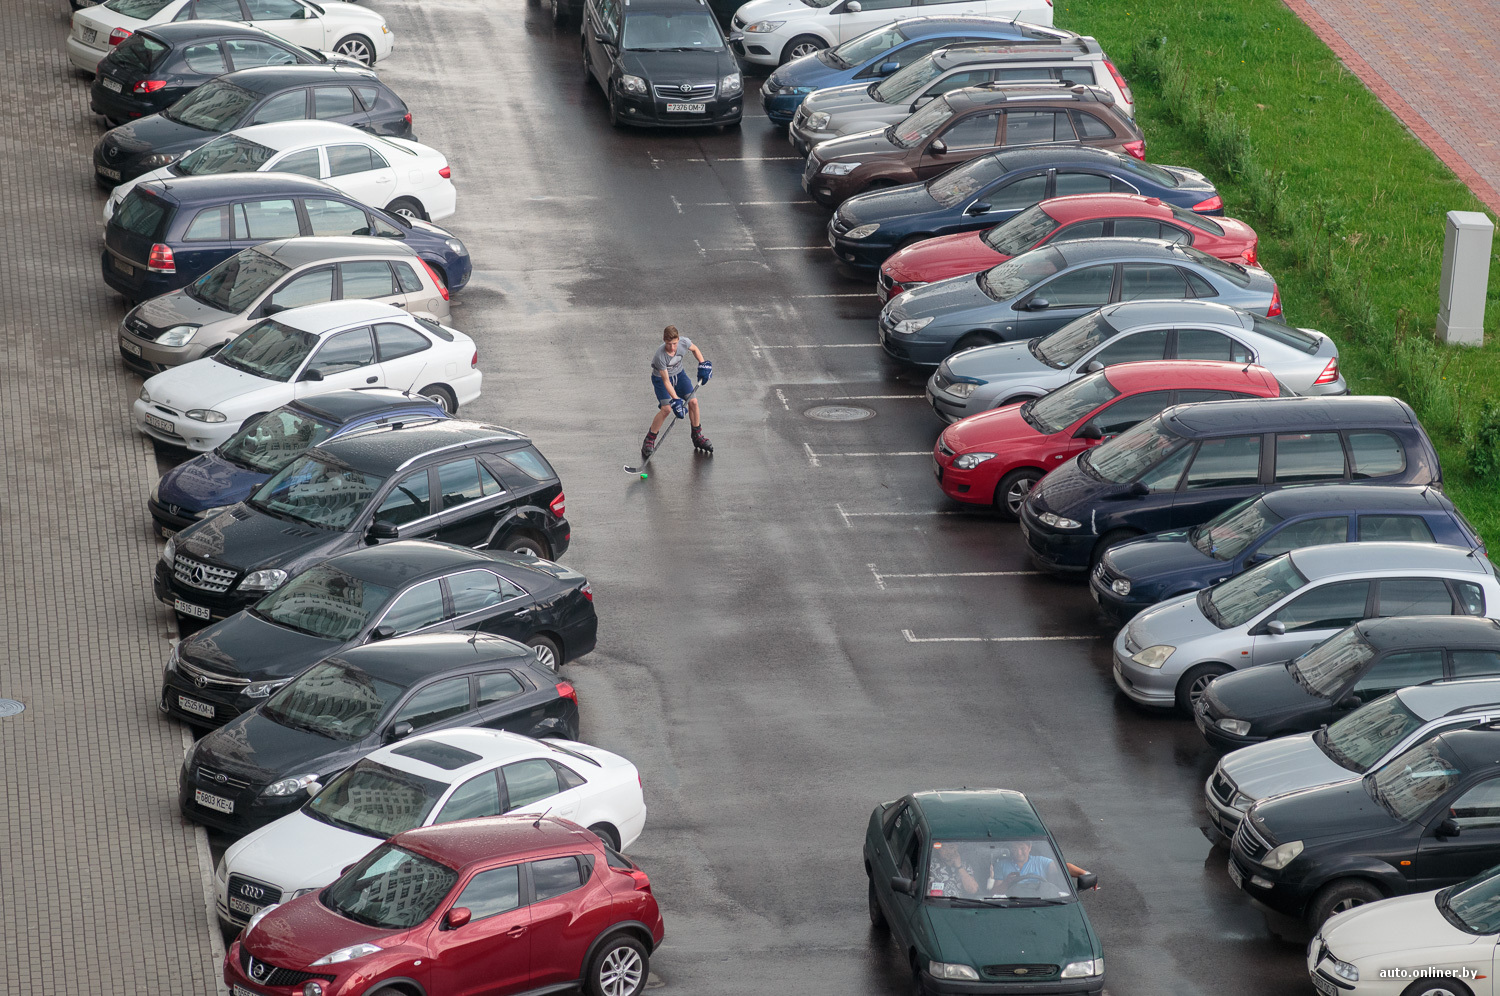Car: (214, 728, 644, 926), (154, 418, 569, 620), (222, 814, 664, 996), (179, 630, 579, 831), (162, 541, 597, 726), (1020, 396, 1443, 572), (1114, 542, 1500, 713), (1228, 719, 1500, 932), (933, 359, 1296, 517), (1090, 484, 1487, 622), (133, 299, 482, 451), (878, 237, 1286, 365), (926, 301, 1348, 424), (864, 789, 1104, 994), (827, 146, 1226, 268), (100, 170, 473, 300), (1204, 674, 1500, 837), (118, 236, 452, 372), (801, 79, 1146, 210), (149, 389, 453, 532), (789, 34, 1134, 159), (1194, 615, 1500, 750), (876, 195, 1259, 302), (93, 62, 418, 188), (102, 120, 456, 230), (758, 13, 1080, 127), (90, 21, 371, 124), (1306, 866, 1500, 996), (68, 0, 394, 72), (729, 0, 1053, 69), (580, 0, 746, 128), (69, 0, 358, 12), (533, 0, 584, 28)
